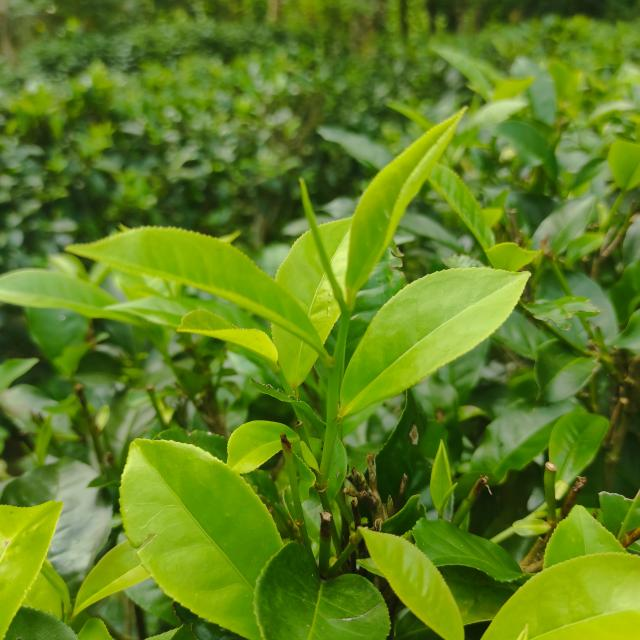unopened_leaf: (290, 168, 354, 322), (435, 475, 464, 524)
